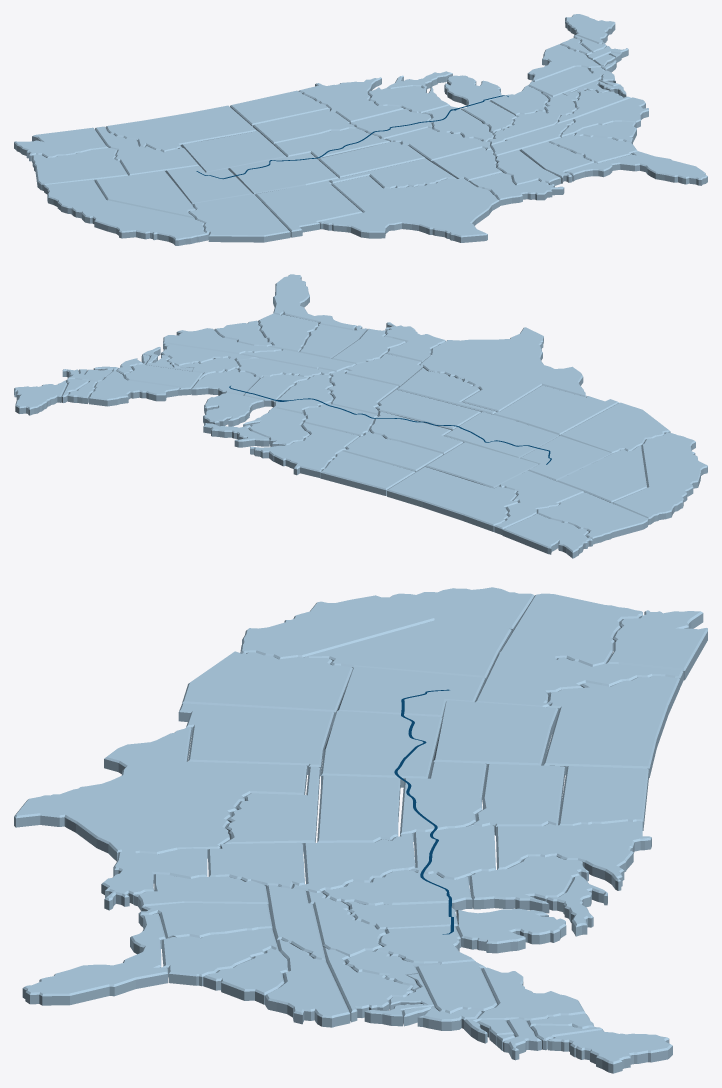
File: USA_Map-BdGDxDI4.glb
3 renders of one model, top to bottom at view 1: azimuth 30°, elevation 25°; view 2: azimuth 150°, elevation 25°; view 3: azimuth 270°, elevation 25°, orthographic. The views are drawn at different scales.
Parts seen in each view (by area): view 1: Texas, California, Montana, Arizona, New Mexico, Nevada, Colorado, Wyoming, Oregon, Florida, Minnesota, Idaho (+31 smaller); view 2: Texas, California, Montana, New Mexico, Arizona, Oregon, Nevada, Colorado, Minnesota, Wyoming, North dakota, Idaho (+30 smaller); view 3: Texas, California, Montana, New Mexico, Arizona, Nevada, Colorado, Wyoming, Oregon, Minnesota, Idaho, Florida (+33 smaller).
Boxes of the visible parts, x1,y1,x2,y2 form: Texas: (319, 175, 499, 242); California: (44, 179, 209, 245); Montana: (105, 105, 256, 151); Arizona: (189, 194, 290, 242); New Mexico: (255, 180, 362, 237); Nevada: (95, 170, 195, 218); Colorado: (228, 152, 338, 194); Wyoming: (181, 131, 286, 172); Oregon: (32, 148, 128, 190); Florida: (565, 151, 707, 185); Minnesota: (298, 77, 403, 122); Idaho: (95, 126, 198, 175); Texas: (420, 327, 586, 411); California: (612, 432, 707, 524); Montana: (387, 467, 517, 531); New Mexico: (494, 385, 618, 435); Arizona: (560, 402, 670, 453); Oregon: (537, 492, 648, 544); Nevada: (557, 445, 646, 503); Colorado: (444, 412, 559, 458); Minnesota: (250, 423, 359, 477); Wyoming: (425, 442, 538, 488); North dakota: (320, 451, 415, 495); Idaho: (494, 470, 583, 535); Texas: (14, 727, 306, 861); California: (240, 587, 534, 659); Montana: (543, 676, 679, 777); New Mexico: (178, 703, 334, 776); Arizona: (182, 651, 352, 720); Nevada: (304, 620, 511, 681); Colorado: (321, 711, 442, 787); Wyoming: (433, 700, 558, 769); Oregon: (499, 593, 642, 666); Minnesota: (496, 821, 651, 890); Idaho: (475, 653, 683, 707); Florida: (22, 913, 167, 1005).
Bounding box in the file's own units: 9.31 × 0.1287 × 5.73.
